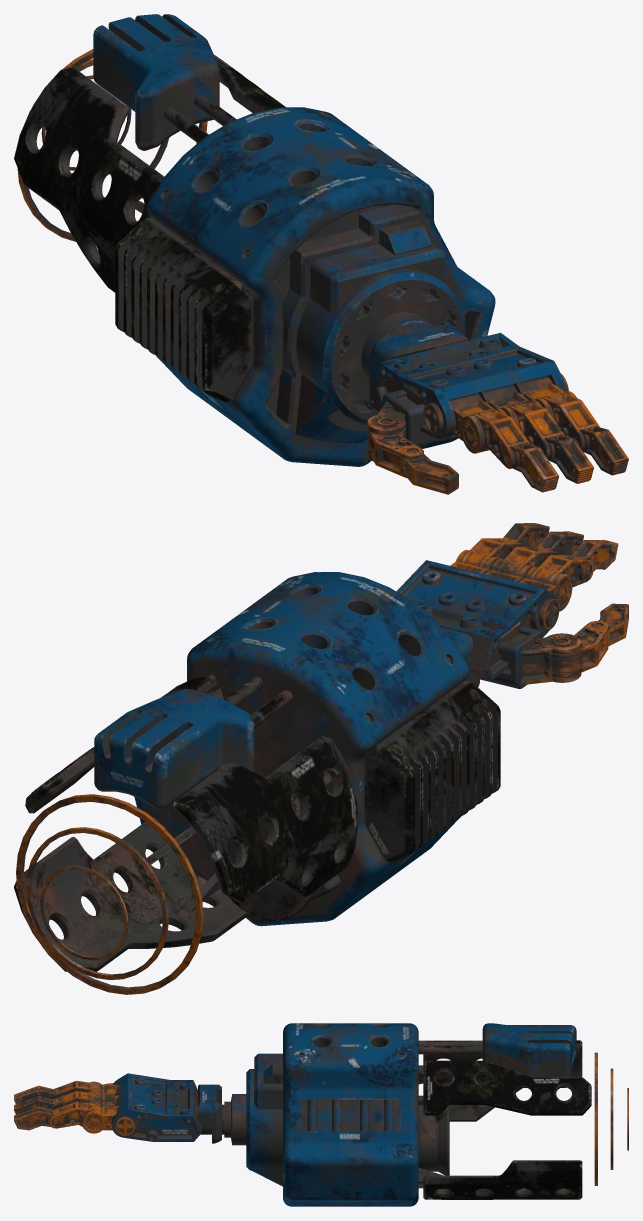
Rendered from robohand-2-transformed.glb.
The picture shows the model from 3 angles, top to bottom: view 1: azimuth 30°, elevation 25°; view 2: azimuth 150°, elevation 25°; view 3: azimuth 270°, elevation 25°; orthographic projection. The views are drawn at different scales.
Visible parts, largest first — view 1: Object_3, Object_4.004, Object_17, Object_5, Object_10, Object_4.003, Object_6, Object_10.002, Object_13, Object_12, Object_16, Object_9 (+7 smaller); view 2: Object_3, Object_17, Object_4.004, Object_15, Object_10, Object_5, Object_10.002, Object_4, Object_14, Object_16, Object_13, Object_6 (+7 smaller); view 3: Object_3, Object_5, Object_16, Object_10, Object_15, Object_4, Object_4.003, Object_17, Object_10.002, Object_8, Object_4.002, Object_7 (+7 smaller).
Boxes of the visible parts, x1,y1,x2,y2 form: Object_3: [135, 107, 495, 466]; Object_4.004: [115, 217, 253, 402]; Object_17: [14, 67, 164, 292]; Object_5: [369, 322, 568, 448]; Object_10: [93, 14, 236, 150]; Object_4.003: [310, 220, 445, 313]; Object_6: [471, 409, 530, 468]; Object_10.002: [17, 49, 207, 241]; Object_13: [367, 427, 423, 477]; Object_12: [402, 454, 458, 494]; Object_16: [214, 55, 285, 112]; Object_9: [580, 426, 628, 475]; Object_3: [134, 572, 469, 926]; Object_17: [173, 736, 358, 902]; Object_4.004: [364, 680, 500, 863]; Object_15: [14, 817, 249, 971]; Object_10: [94, 676, 292, 809]; Object_5: [396, 560, 559, 688]; Object_10.002: [16, 794, 203, 994]; Object_4: [212, 794, 340, 920]; Object_14: [520, 633, 581, 684]; Object_16: [25, 674, 218, 813]; Object_13: [551, 621, 608, 677]; Object_6: [529, 555, 593, 587]; Object_3: [246, 1023, 449, 1206]; Object_5: [111, 1073, 230, 1143]; Object_16: [423, 1060, 591, 1115]; Object_10: [418, 1023, 576, 1076]; Object_15: [423, 1160, 582, 1199]; Object_4: [418, 1105, 449, 1175]; Object_4.003: [254, 1053, 282, 1109]; Object_17: [423, 1040, 582, 1121]; Object_10.002: [594, 1052, 628, 1185]; Object_8: [48, 1101, 102, 1128]; Object_4.002: [231, 1094, 246, 1145]; Object_7: [82, 1102, 119, 1133].
Bounding box in the file's own units: 11.63 × 11.04 × 35.33.
1 material, 1 textured.
